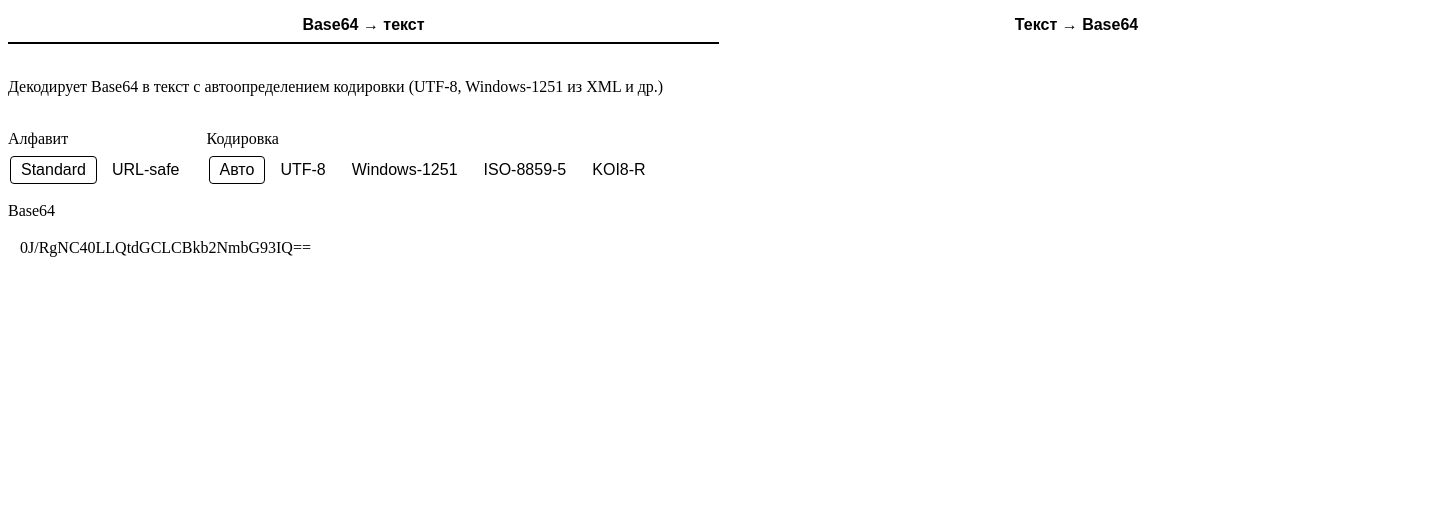
Test: Base64Codec › encode показывает Base64 для текста
The width and height of the screenshot is (1452, 526).
Click the tab "Текст → Base64": [1076, 26] box [721,8,1432,44]
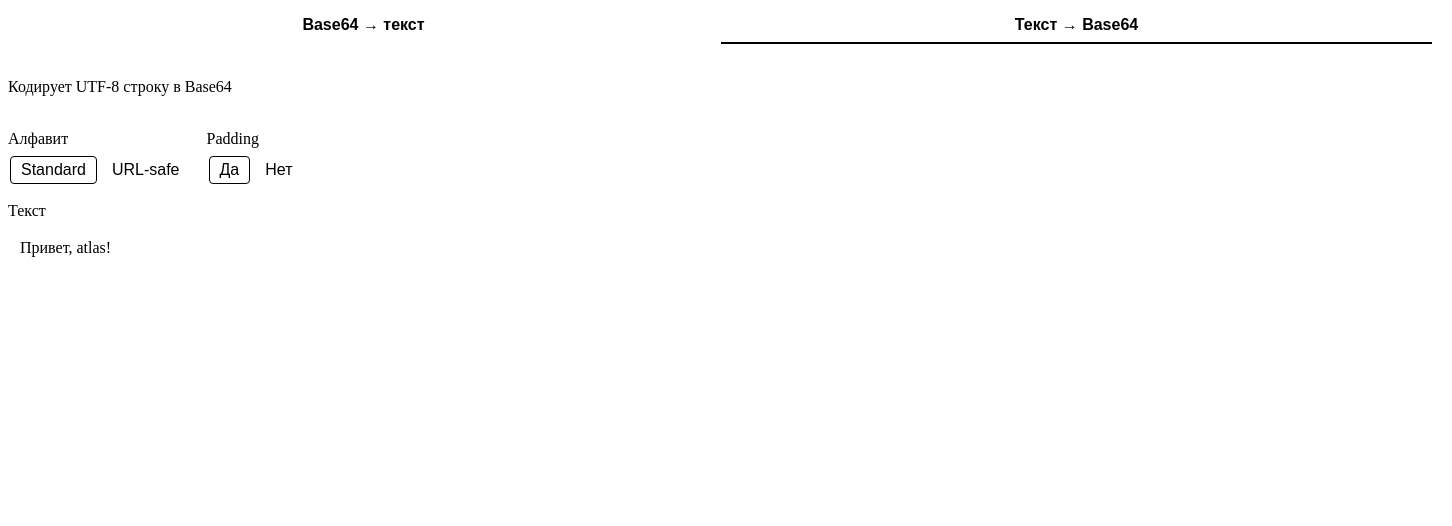
In the text box named "Текст": [724, 296] box [8,226,1440,366], type "docflow"
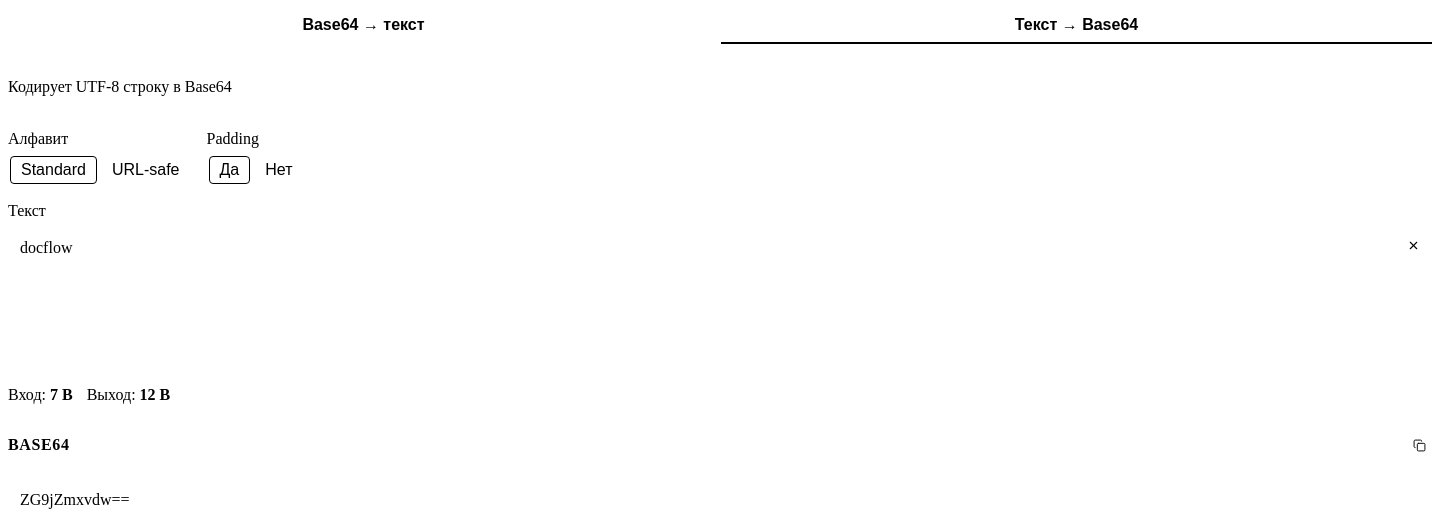
Now the text named "Результат" reads "ZG9jZmxvdw==", box [20,491,130,508]
